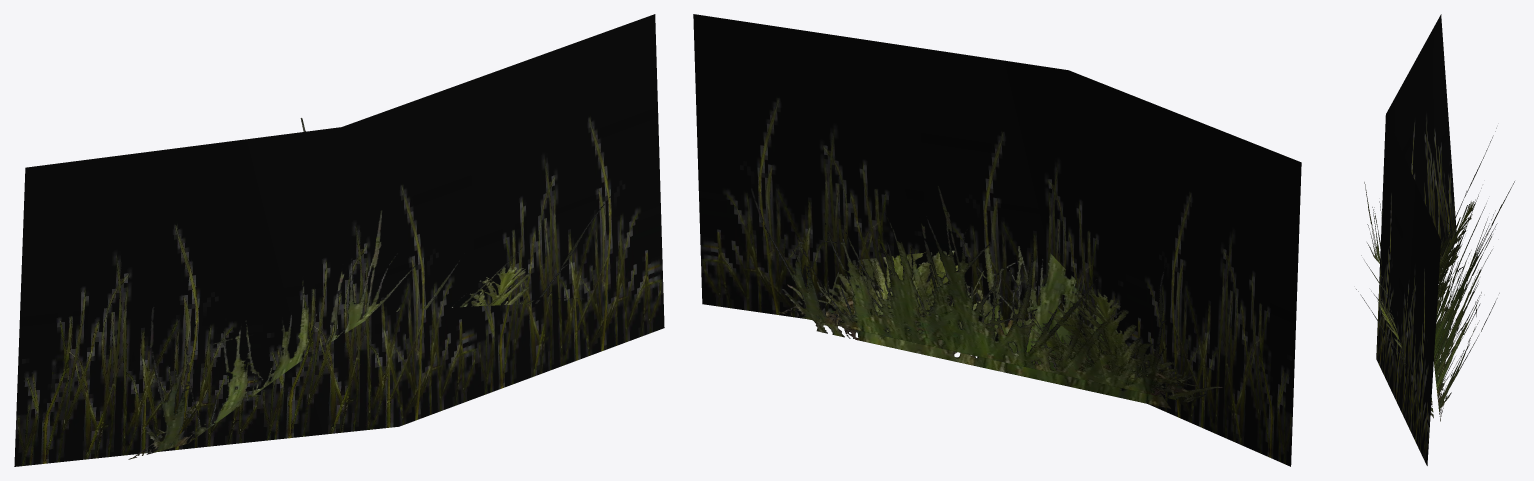
File: NW_NATURE_SIDEPLANT_01.glb
3 views of the same model, side by side, from view 1: azimuth 30°, elevation 25°; view 2: azimuth 150°, elevation 25°; view 3: azimuth 270°, elevation 25° (orthographic). The views are drawn at different scales.
Parts seen in each view (by area): view 1: Mesh; view 2: Mesh; view 3: Mesh.
Boxes of the visible parts, x1,y1,x2,y2 form: Mesh: [14, 14, 664, 466]; Mesh: [693, 14, 1301, 466]; Mesh: [1356, 14, 1514, 465].
Bounding box in the file's own units: 2.1 × 0.9802 × 0.7447.
2 materials, 2 textured.
